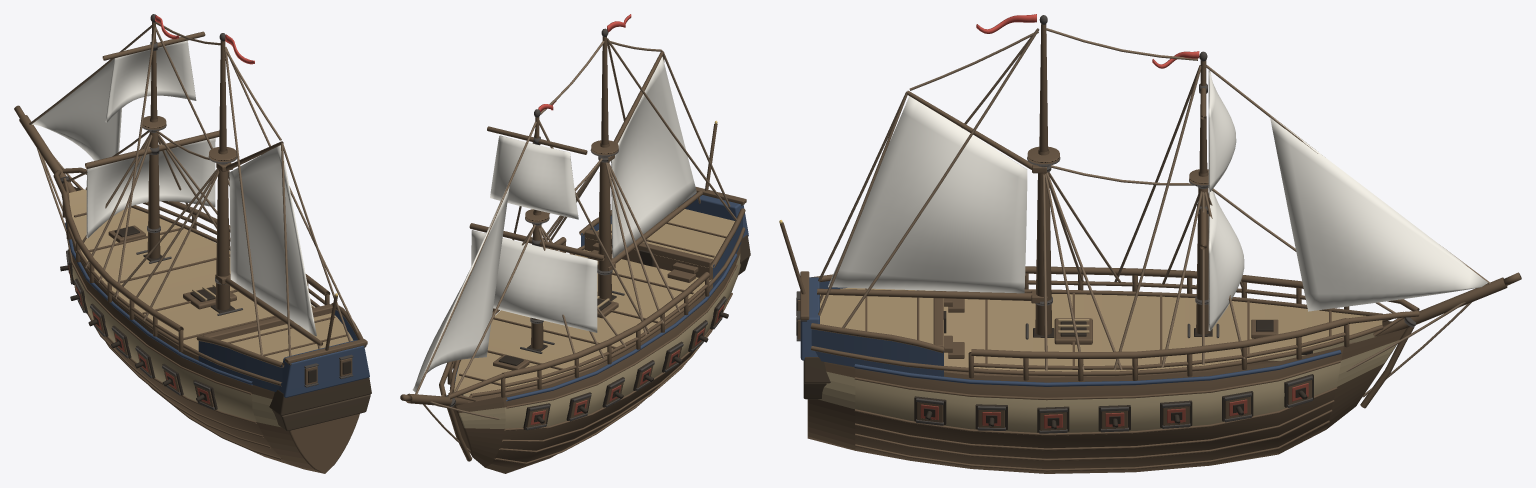
The model's file is brig.glb.
3 views of the same model, side by side, from view 1: azimuth 30°, elevation 25°; view 2: azimuth 150°, elevation 25°; view 3: azimuth 270°, elevation 25° (orthographic). The views are drawn at different scales.
Parts seen in each view (by area): view 1: Deck, HullMesh, Sail_Main_Gaff, Sterncastle, Sail_Fore_Course, Rigging_Main, Sail_Bowsprit, Railings, Sail_Fore_Topsail, Rigging_Fore, Mast_Main, Mast_Fore (+6 smaller); view 2: Deck, HullMesh, Sail_Main_Gaff, Sail_Fore_Course, Sail_Bowsprit, Sail_Fore_Topsail, Railings, Rigging_Main, Mast_Main, Gunports, Rigging_Fore, Sterncastle (+5 smaller); view 3: HullMesh, Deck, Sail_Main_Gaff, Sail_Bowsprit, Railings, Rigging_Main, Gunports, Rigging_Fore, Mast_Main, Sail_Fore_Course, Sterncastle, Yard_Main_Gaff (+4 smaller).
Boxes of the visible parts, x1,y1,x2,y2 form: Deck: (66, 187, 357, 391); HullMesh: (53, 167, 359, 473); Sail_Main_Gaff: (229, 145, 316, 336); Sterncastle: (269, 293, 371, 431); Sail_Fore_Course: (86, 138, 215, 238); Rigging_Main: (113, 22, 358, 356); Sail_Bowsprit: (32, 50, 125, 160); Railings: (61, 192, 366, 367); Sail_Fore_Topsail: (105, 40, 196, 122); Rigging_Fore: (29, 25, 230, 298); Mast_Main: (208, 33, 236, 310); Mast_Fore: (142, 14, 166, 258); Deck: (449, 208, 745, 397); HullMesh: (439, 246, 740, 473); Sail_Main_Gaff: (611, 56, 696, 258); Sail_Fore_Course: (471, 230, 597, 332); Sail_Bowsprit: (412, 183, 509, 392); Sail_Fore_Topsail: (490, 135, 578, 219); Railings: (447, 208, 745, 397); Rigging_Main: (540, 38, 737, 335); Mast_Main: (590, 28, 618, 299); Gunports: (456, 296, 726, 430); Rigging_Fore: (415, 120, 649, 394); Sterncastle: (679, 120, 750, 275); HullMesh: (807, 299, 1419, 473); Deck: (811, 281, 1383, 376); Sail_Main_Gaff: (828, 96, 1027, 293); Sail_Bowsprit: (1270, 117, 1487, 311); Railings: (810, 266, 1349, 381); Rigging_Main: (818, 28, 1197, 370); Gunports: (914, 351, 1313, 433); Rigging_Fore: (1113, 65, 1490, 370); Mast_Main: (1027, 15, 1060, 335); Sail_Fore_Course: (1208, 190, 1244, 331); Sterncastle: (779, 220, 830, 399); Yard_Main_Gaff: (817, 90, 1051, 303).
Size of the model in its own units: 1.63 by 3.71 by 5.44.
